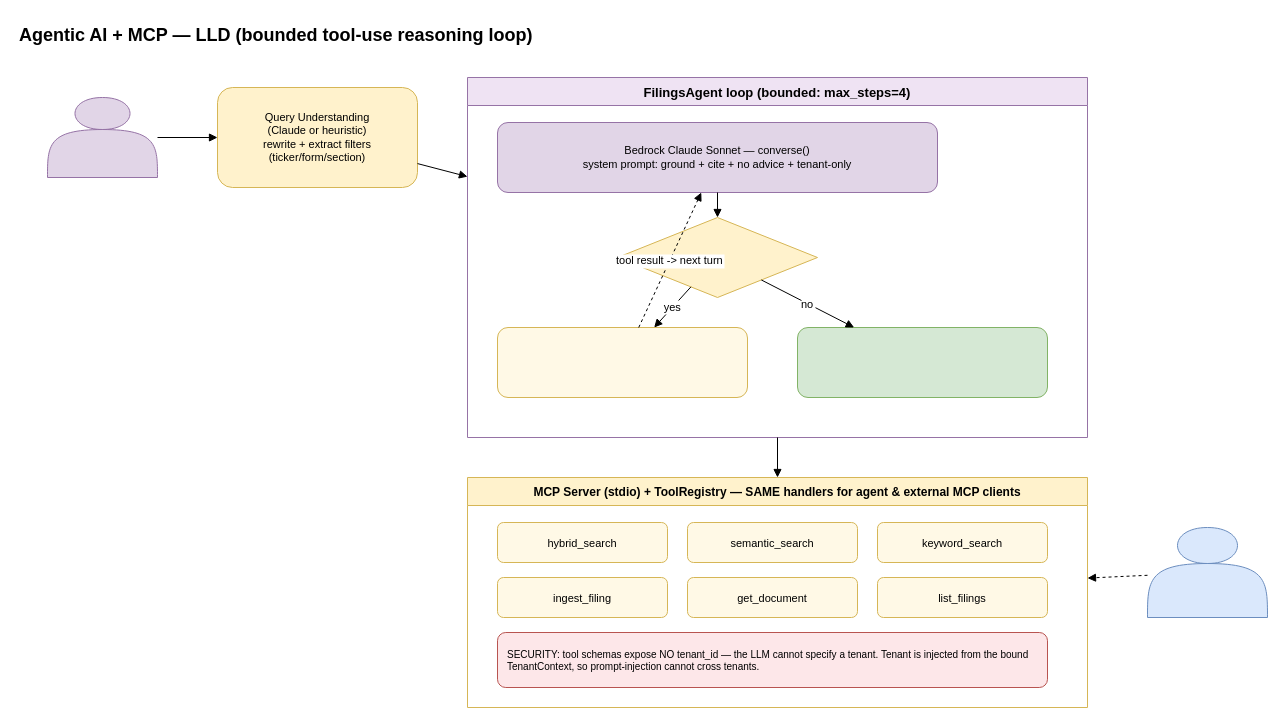
Image size: 1285x725. Some labels were removed from this diagram. The shapes that lost their labels are listed below. From the top down, each one's centre as x and y in pixels, then its label:
the point at 102,137: User prompt (tenant from auth)
the point at 717,257: tool_use requested?
the point at 622,362: Execute tool via ToolRegistry (tenant injected server-side)
the point at 922,362: Final: cited, grounded answer + citations + tool_calls + steps
the point at 1207,572: External MCP client (Claude Desktop, IDE, other agent)
